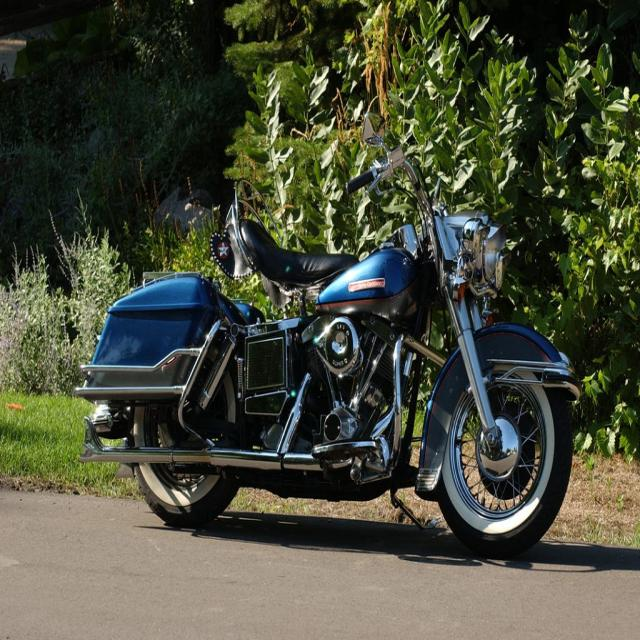Motorbikes: (73, 159, 587, 563)
